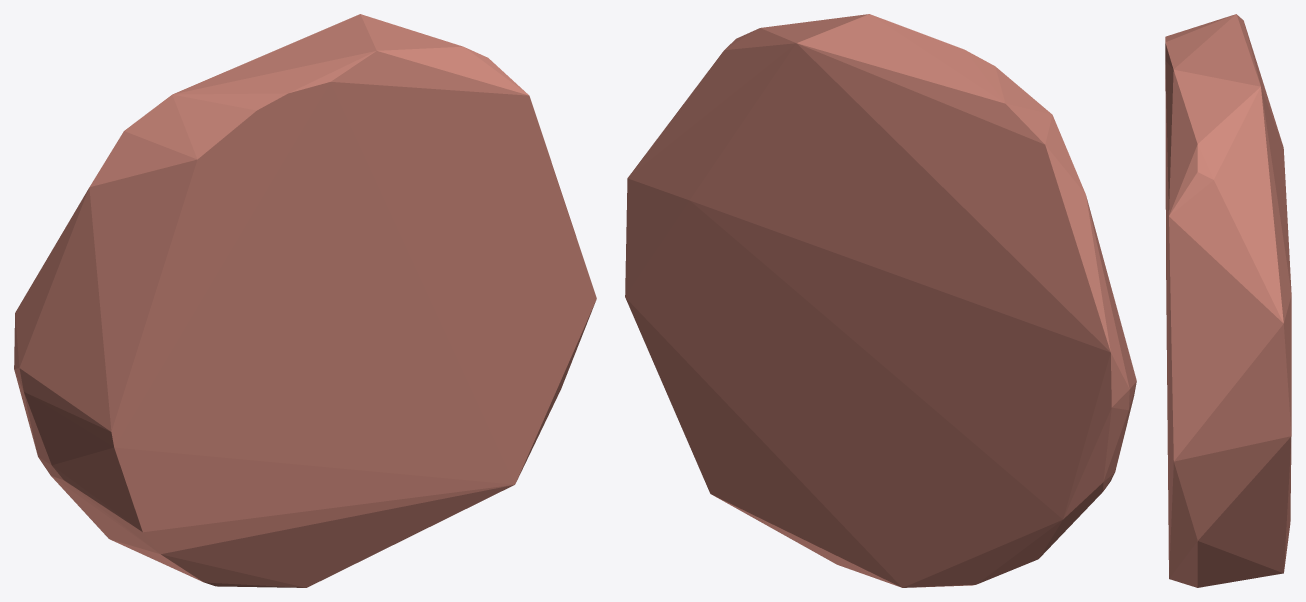
The model's file is food_prepared_waffle_d01.glb.
3 renders of one model, left to right at view 1: azimuth 30°, elevation 25°; view 2: azimuth 150°, elevation 25°; view 3: azimuth 270°, elevation 25°, orthographic. The views are drawn at different scales.
Parts seen in each view (by area): view 1: geometry_0; view 2: geometry_0; view 3: geometry_0.
Boxes of the visible parts, x1,y1,x2,y2 form: geometry_0: (14,14,596,587); geometry_0: (625,14,1136,587); geometry_0: (1165,14,1291,587).
Size of the model in its own units: 0.4724 by 0.4536 by 0.1014.
